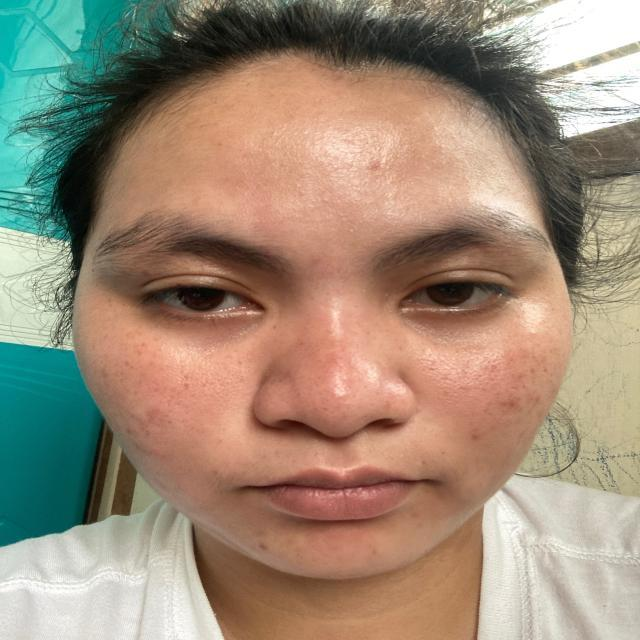Acne: (466, 368, 548, 447), (132, 400, 178, 470), (321, 346, 358, 374), (357, 540, 387, 560), (252, 534, 276, 558), (358, 154, 388, 172), (203, 462, 229, 478)
